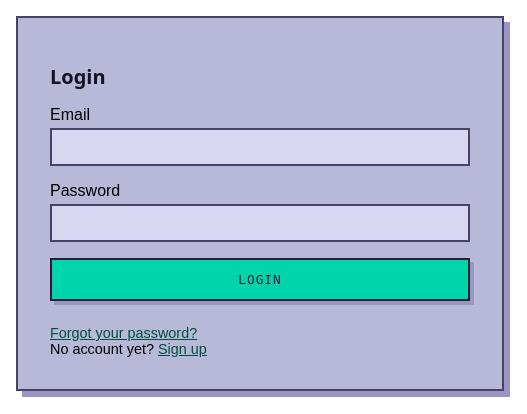
a render error reaches the reporter › reports a navigation-time throw once, not twice
Click the link "Sign up" at (182, 349), box [158,341,207,357]
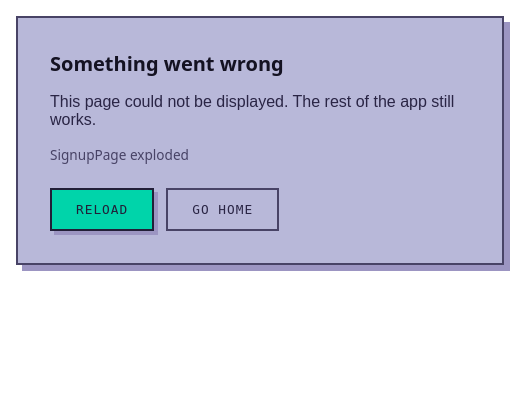
Now the message is shown, box [16,16,504,265]
